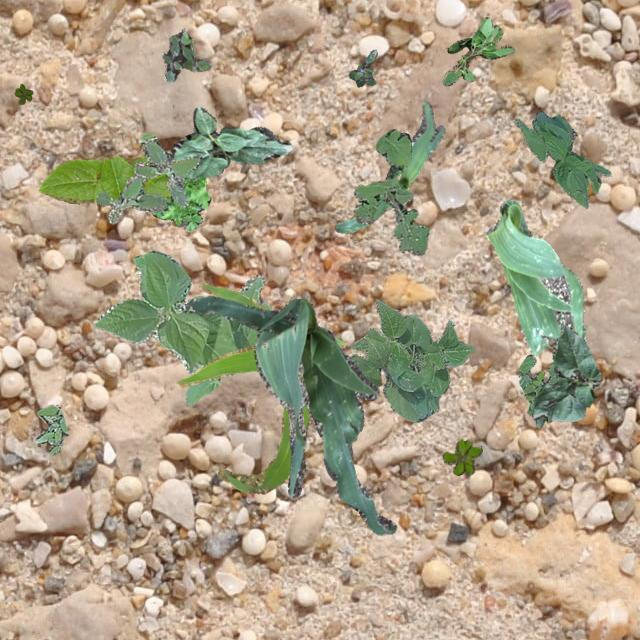crop: (187, 294, 396, 534), (177, 282, 346, 492), (94, 250, 270, 404), (486, 198, 584, 354), (350, 298, 472, 422), (334, 100, 444, 232), (512, 110, 610, 208), (166, 105, 292, 178), (532, 324, 602, 420), (38, 152, 170, 202)
weed: (352, 128, 428, 254), (96, 132, 202, 222), (442, 15, 514, 84), (152, 176, 210, 230), (518, 354, 556, 426), (162, 28, 210, 82), (34, 404, 68, 454), (442, 440, 482, 474), (348, 48, 377, 86), (14, 82, 32, 104)
